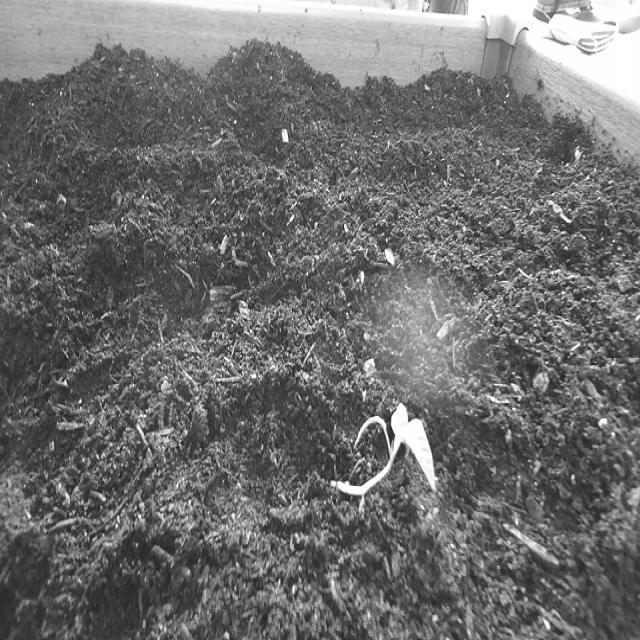Healthy: (327, 398, 440, 520)
